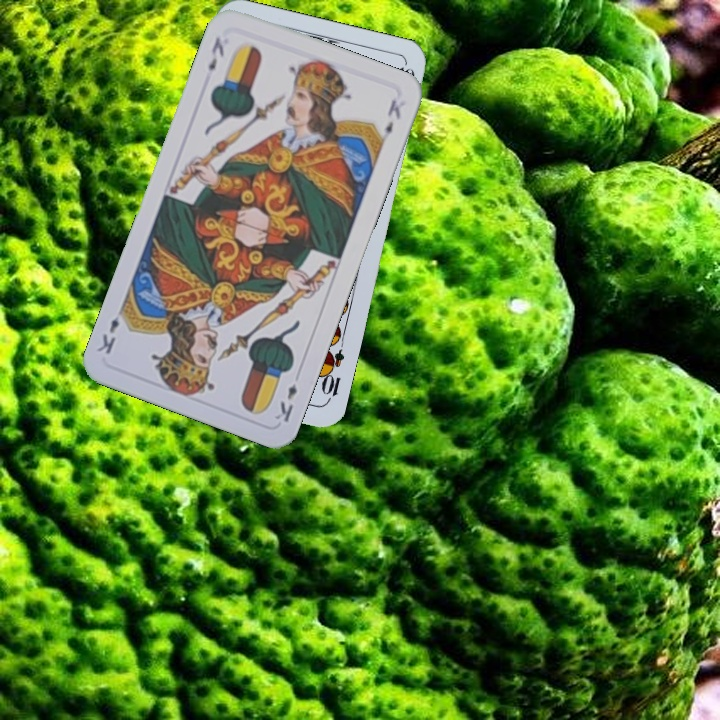E10: (317, 345, 347, 405)
EK: (271, 380, 300, 425), (204, 32, 227, 73)
